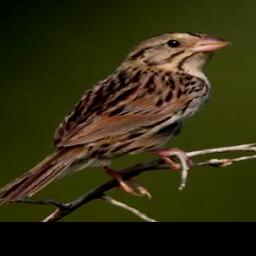Sparrow: (0, 29, 233, 204)
